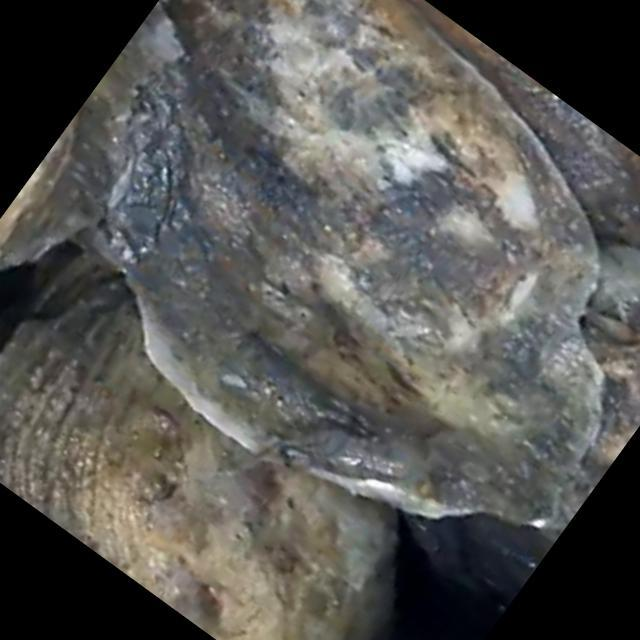Oyster- Indeterminate: (105, 0, 603, 520), (0, 237, 398, 640), (404, 0, 640, 249), (0, 3, 168, 272), (545, 310, 640, 532), (412, 515, 554, 629)
